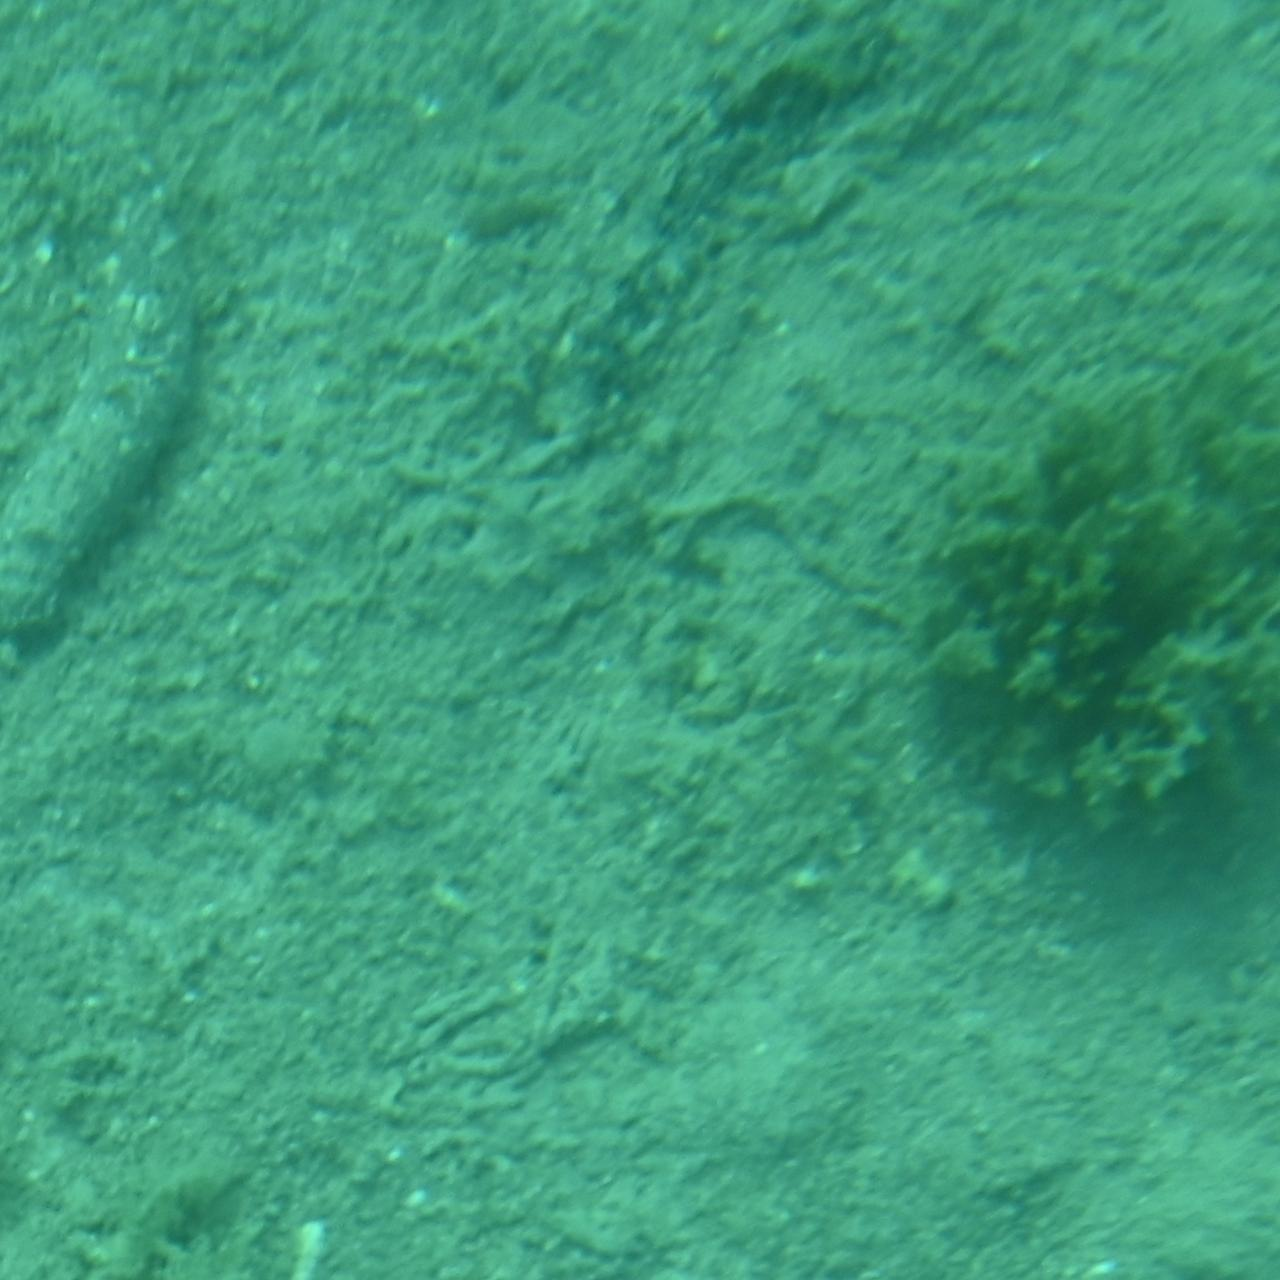Holothuria tubulosa: (531, 0, 908, 464), (0, 61, 233, 655)
Phaeophyceae -cfr Cystoseira-: (900, 349, 1280, 845)
